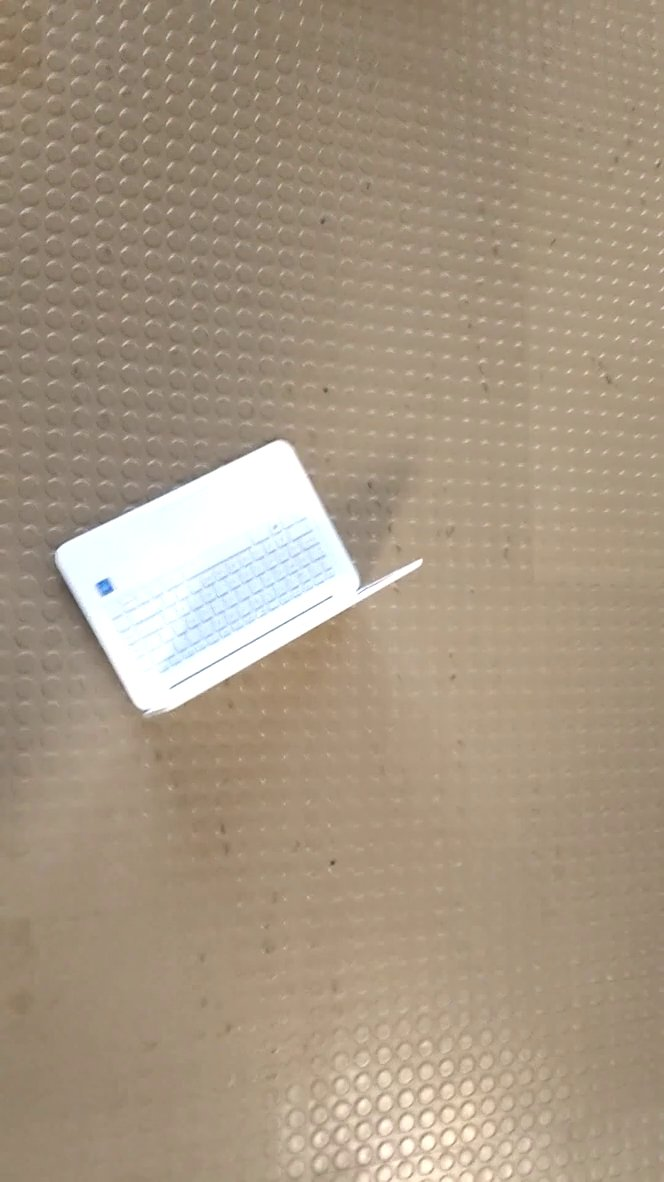laptop: (44, 430, 430, 731)
